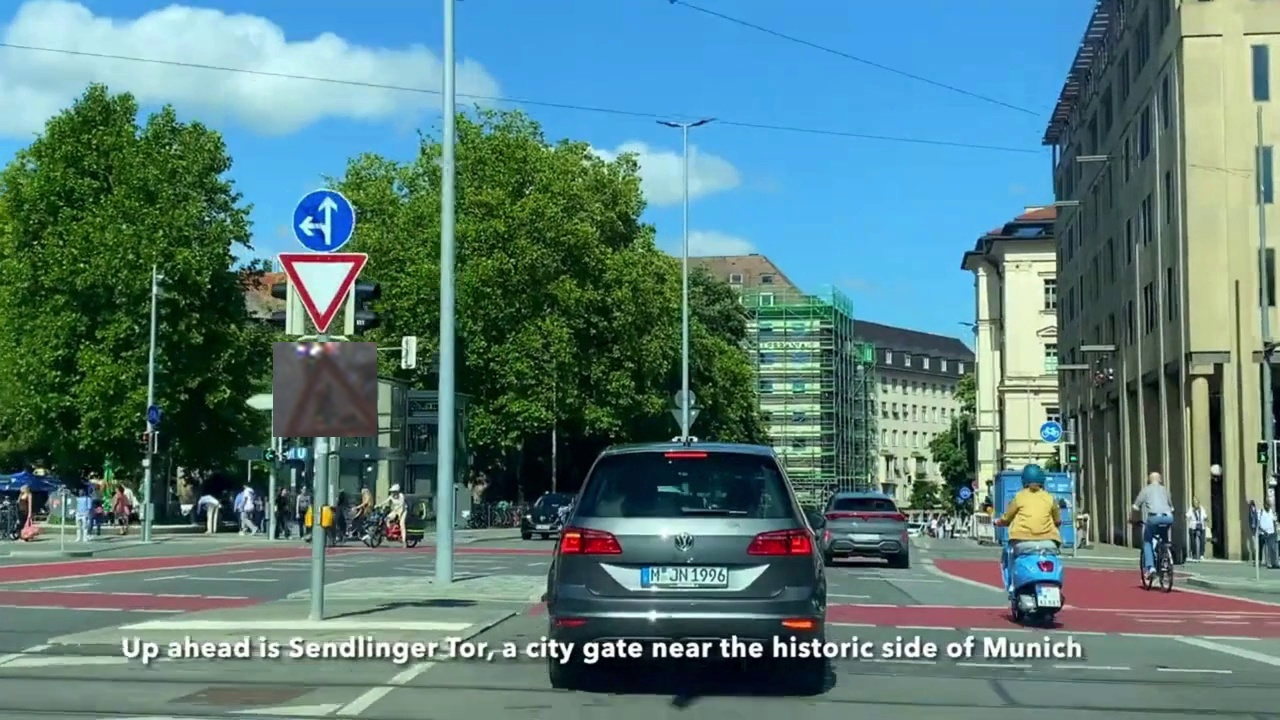Road work: (273, 342, 377, 437)
